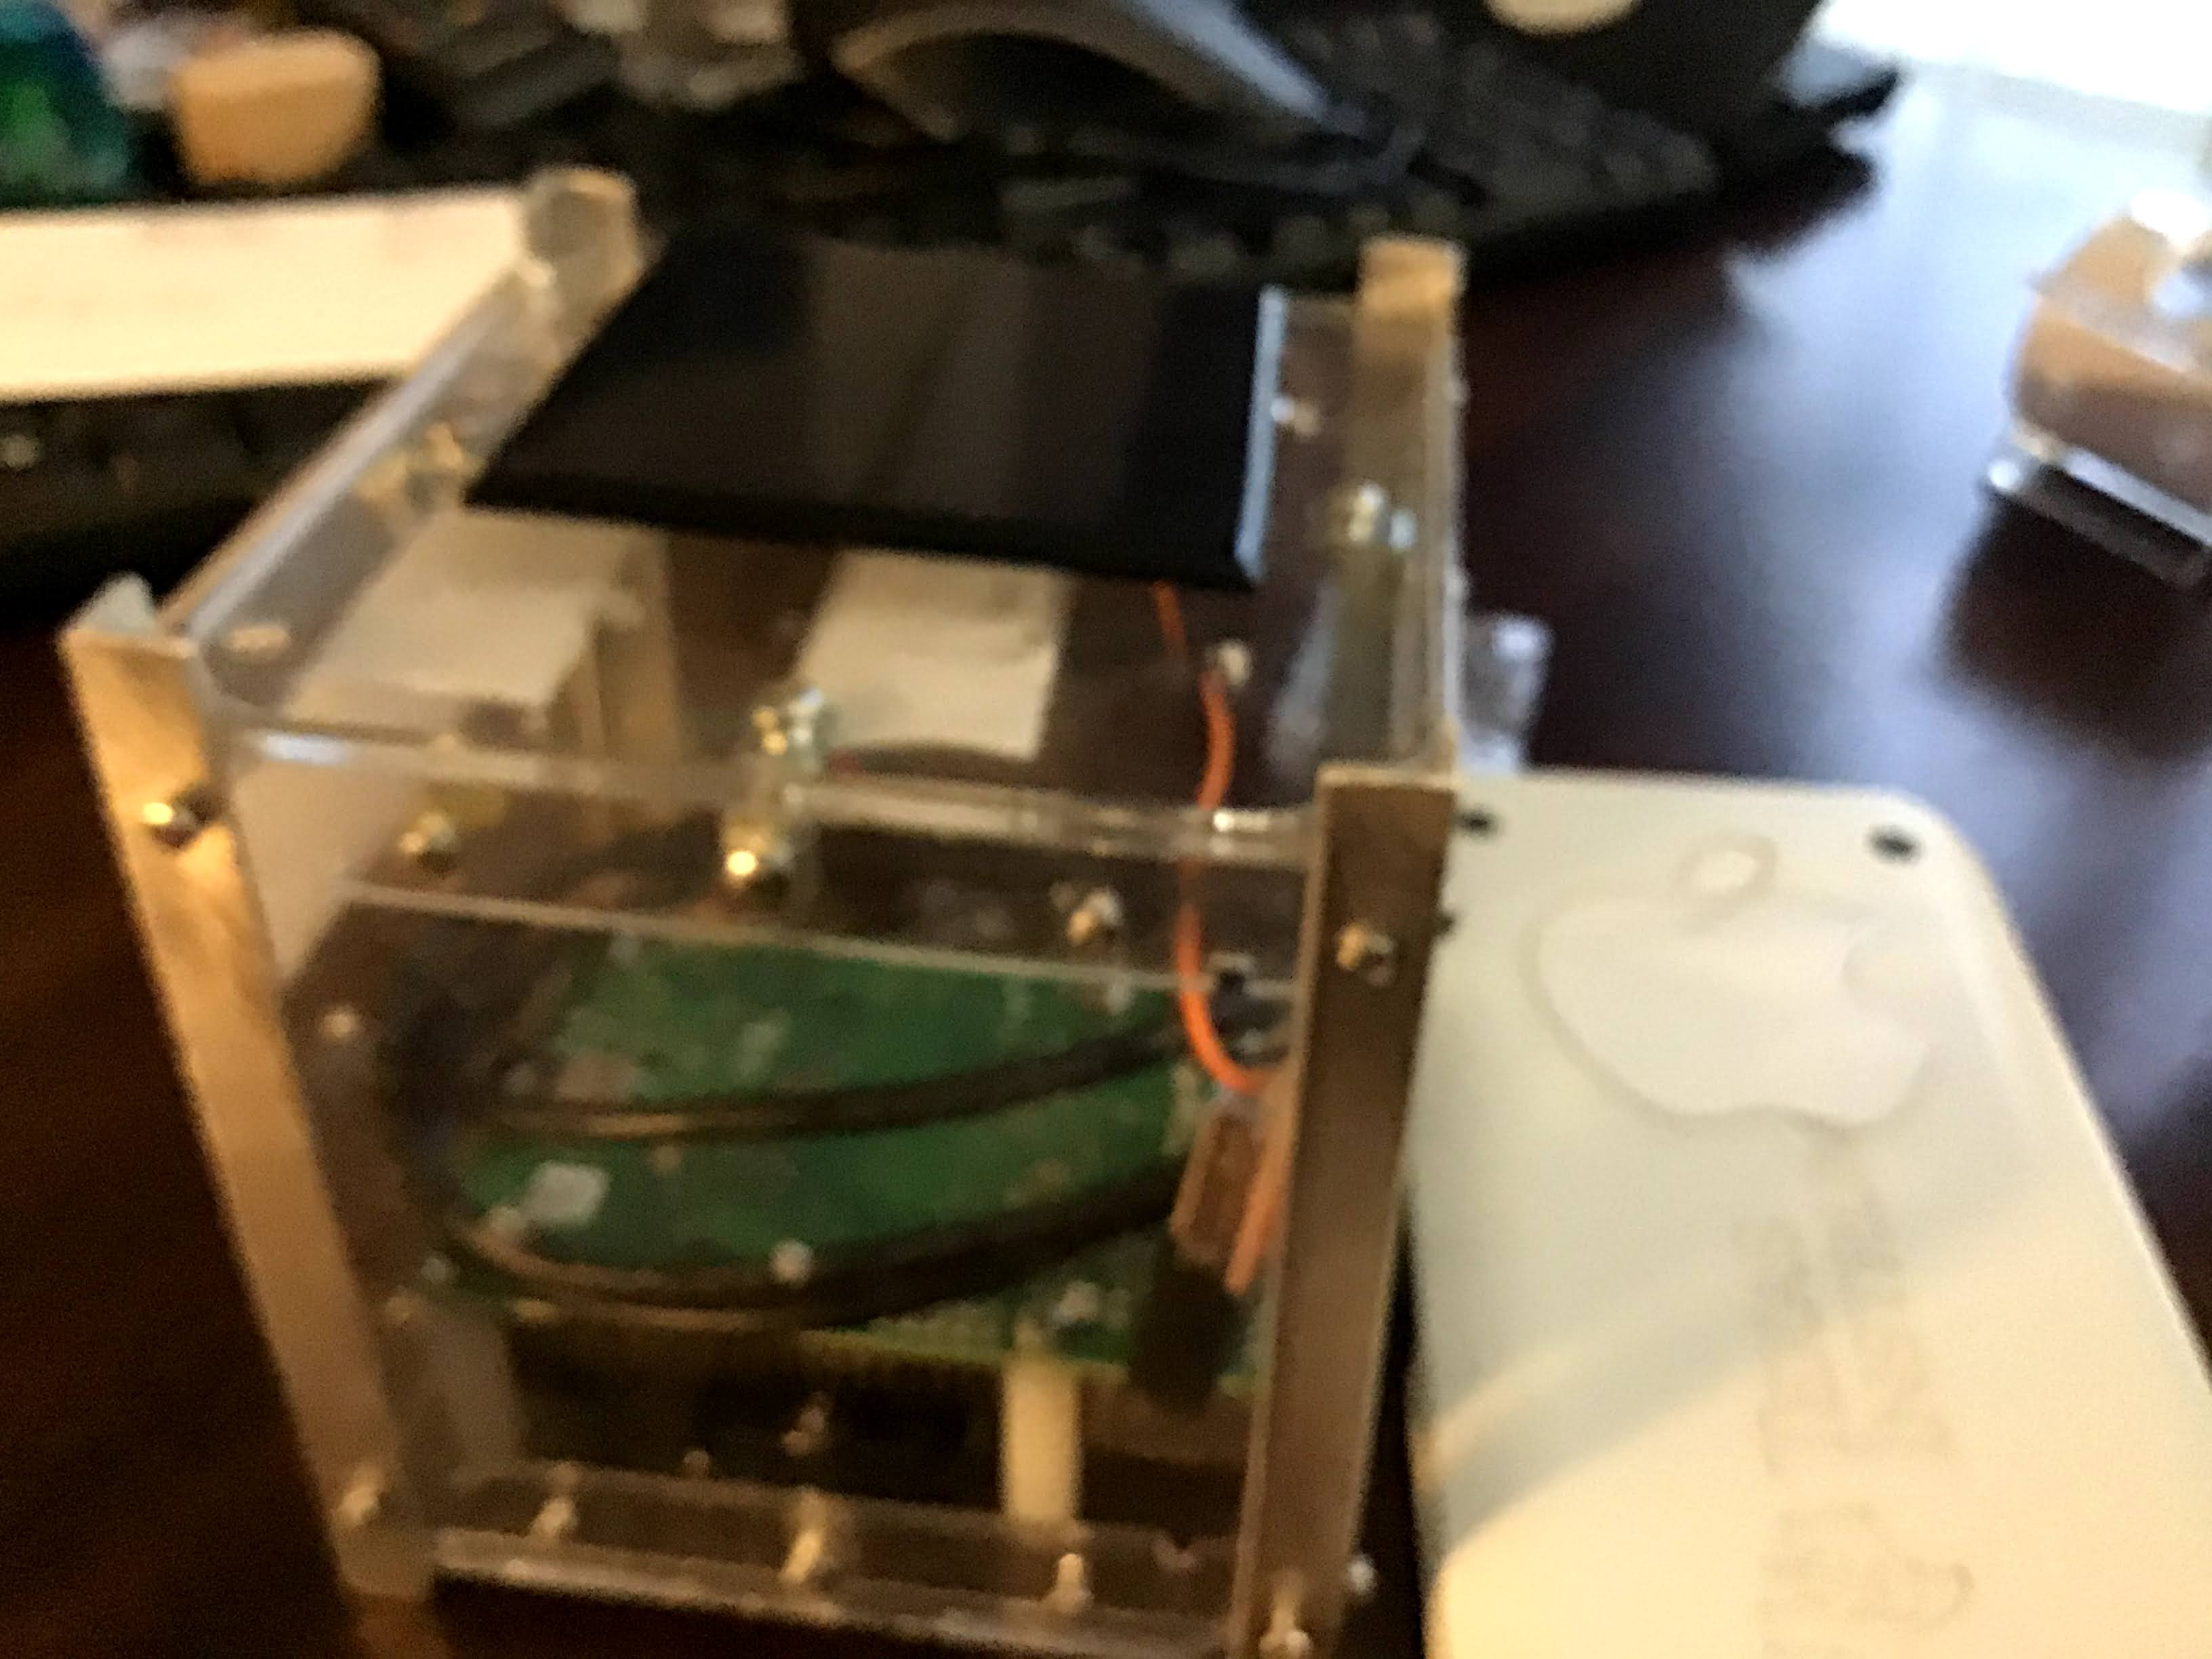Space-debris-cubesat: (42, 78, 1487, 1647)
